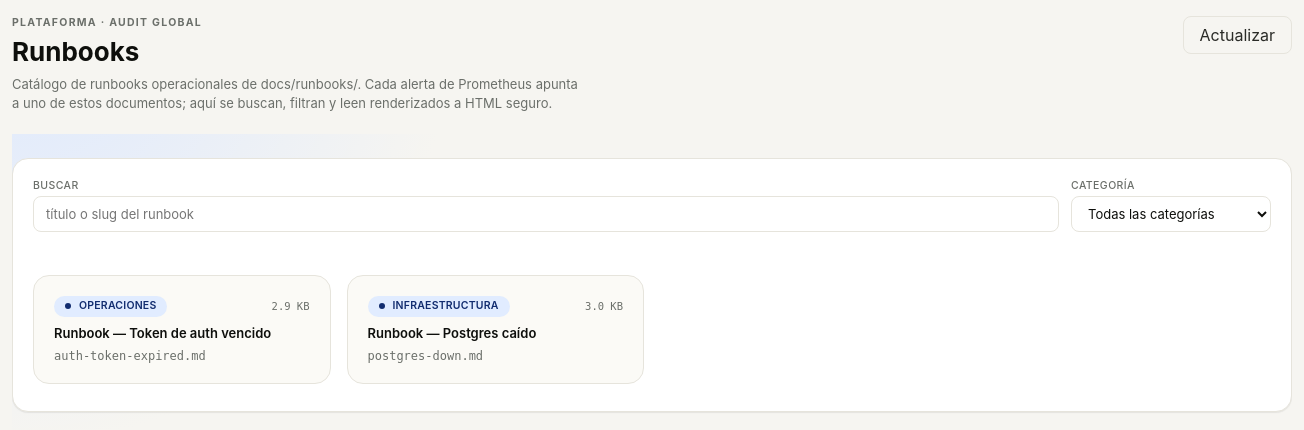
Scenario: Runbooks › filters the catalogue by category client-side
Expected: the heading "Runbook — Token de auth vencido" is shown, [54,325,310,341]
Select "Infraestructura" in the dropdown labelled "Categoría". click: (1171, 214)
box: [1071,196,1271,232]
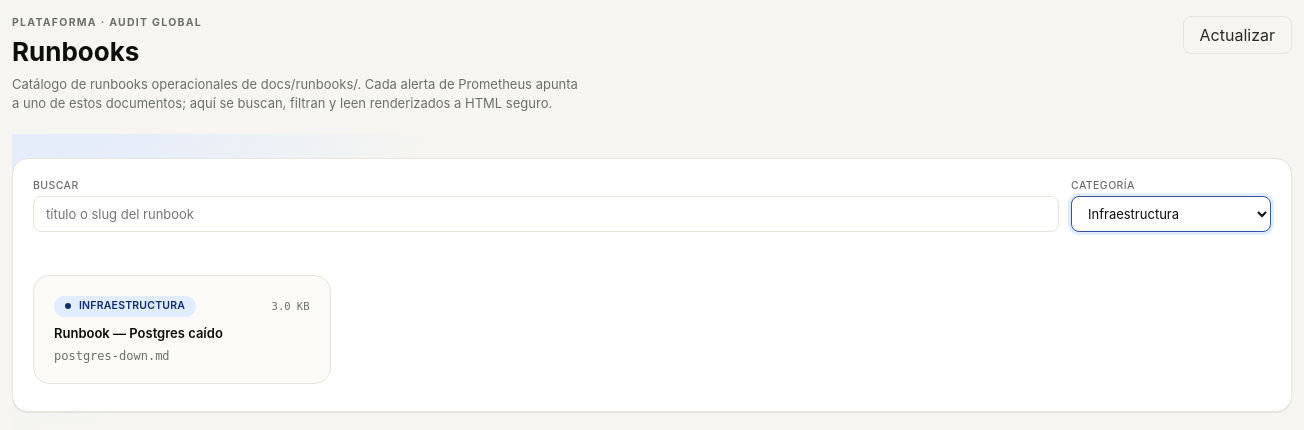
Expected: the heading "Runbook — Postgres caído" is shown, [54,325,223,341]
Result: the button "Runbook — Token de auth vencido" is gone
